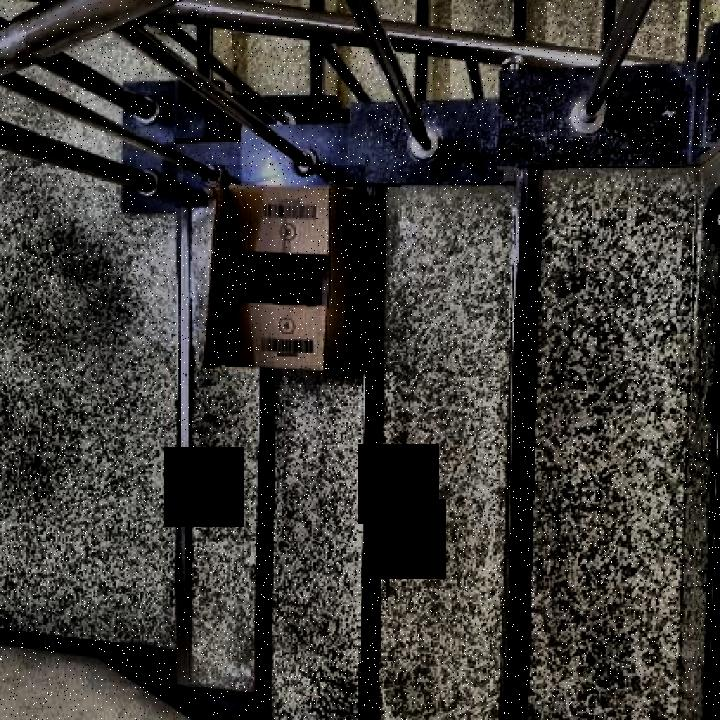box: (183, 165, 366, 385)
